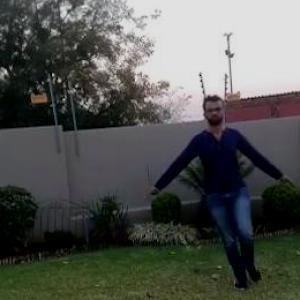land: (160, 102, 288, 279)
